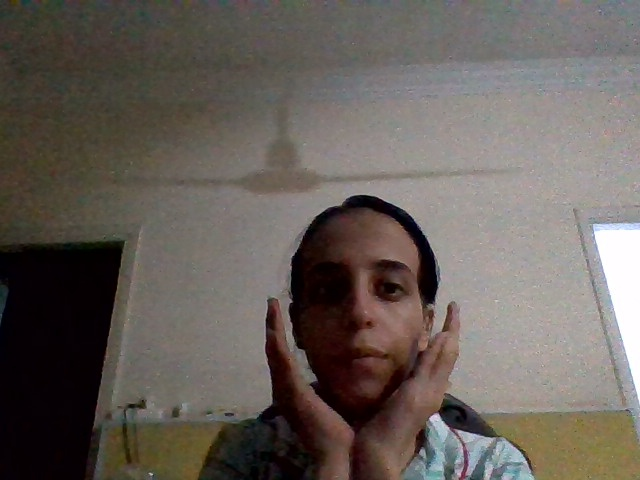ThankYou: (263, 294, 464, 463)
